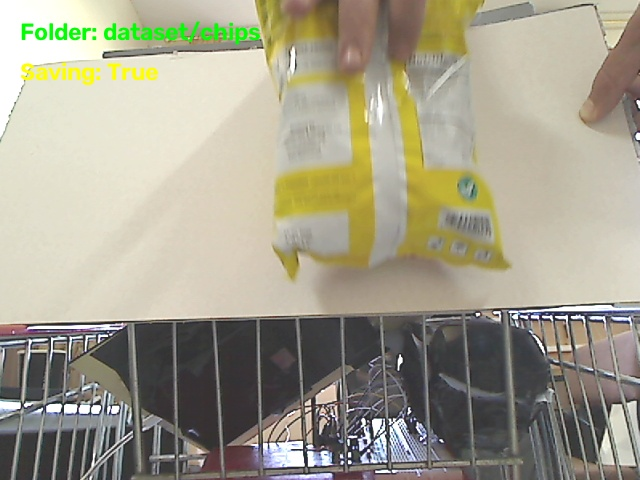chips: (256, 0, 508, 277)
